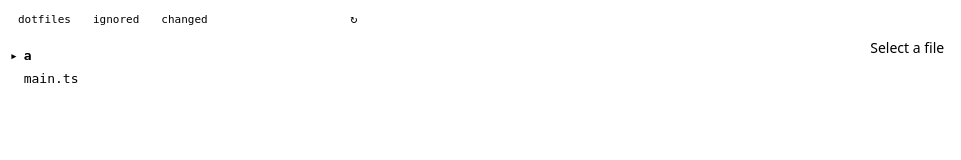
single-child chain collapse › clicking the combined row collapses the whole chain
Click the list item with class "tree-row" showing "▸ a" at (21,56), box [10,48,32,63]
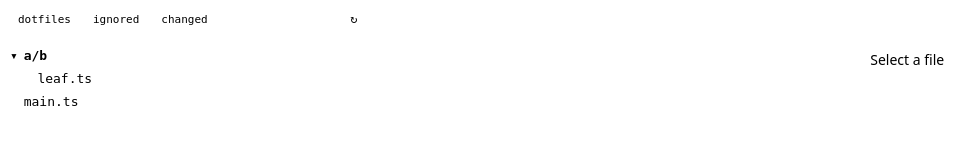
Click the list item with class "tree-row" showing "▾ a/b" at (29,56), box [10,48,47,63]
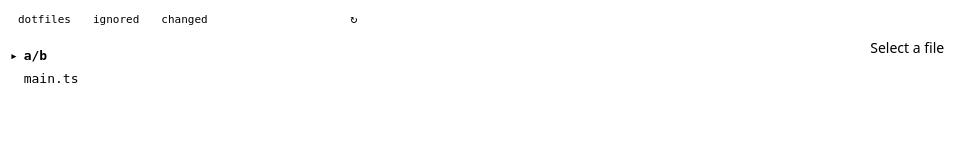
Now the list item with class "tree-row" is collapsed, box [10,48,47,63]
